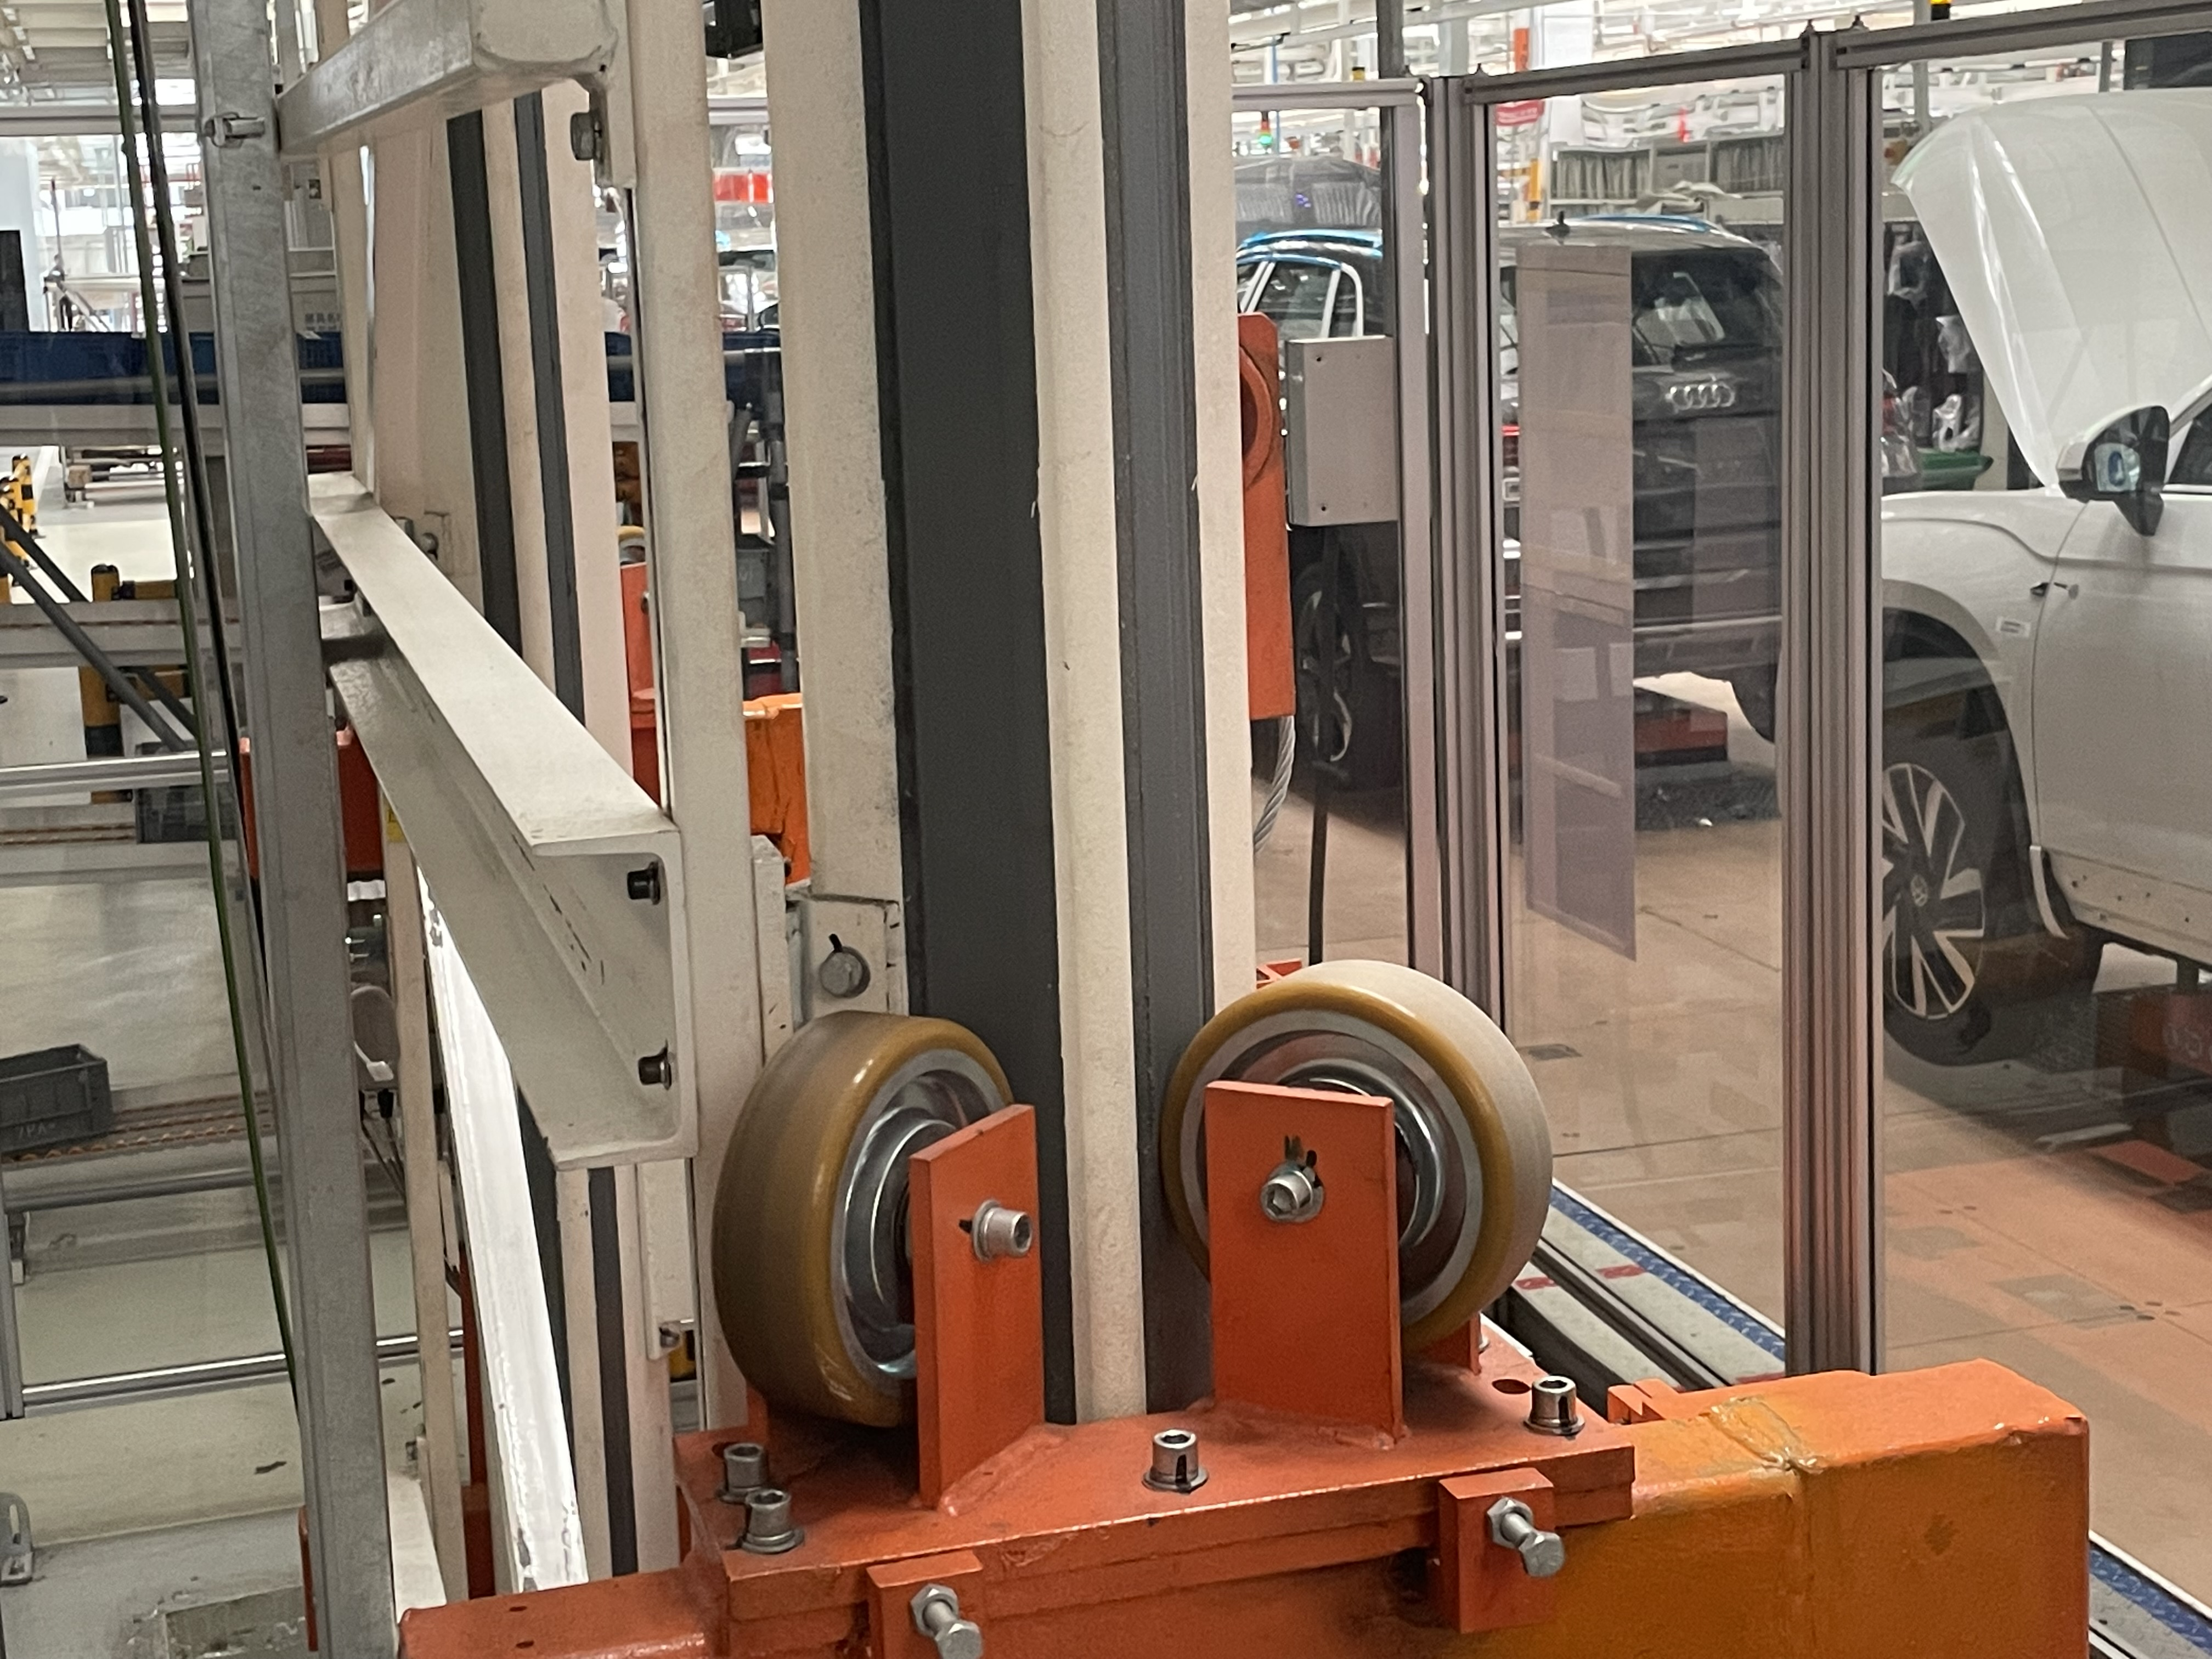good_wheel: (1158, 953, 1568, 1363), (698, 988, 1031, 1457)
